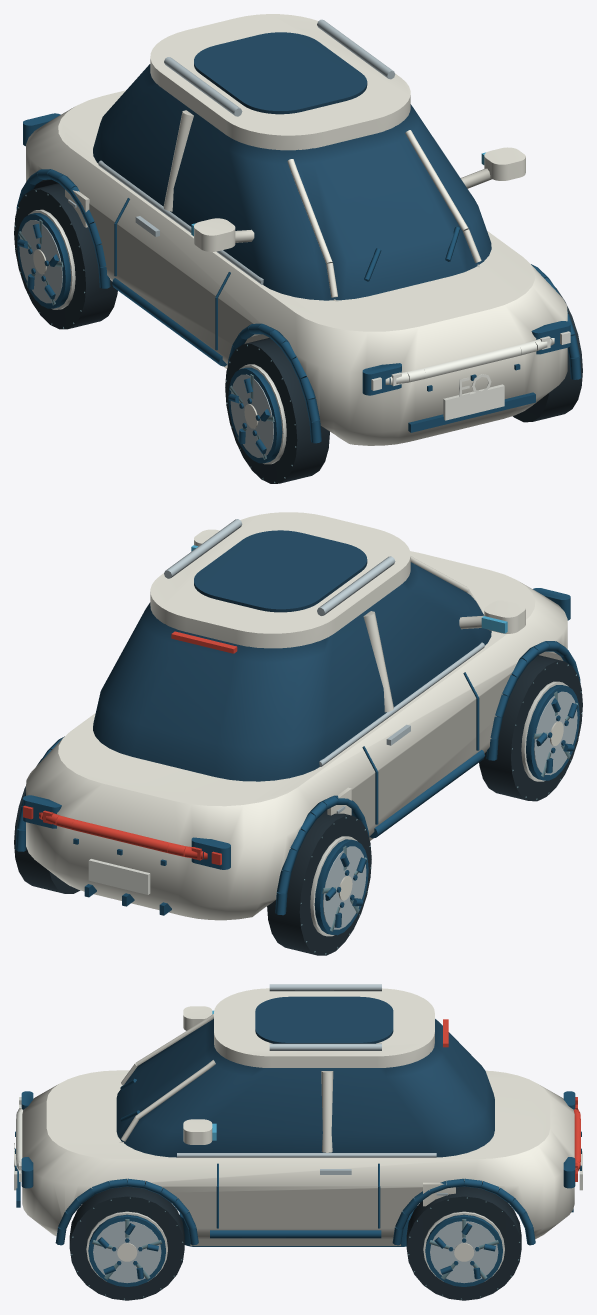
The model's file is car-white.glb.
The picture shows the model from 3 angles, top to bottom: view 1: azimuth 30°, elevation 25°; view 2: azimuth 150°, elevation 25°; view 3: azimuth 270°, elevation 25°; orthographic projection. The views are drawn at different scales.
Visible parts, largest first — view 1: sculpted electric body, sloping panoramic cabin, electric tire, battery underbody, flush door handle, aero wheel cover; view 2: sculpted electric body, sloping panoramic cabin, electric tire, battery underbody, flush door handle, conforming LED ribbon.012, aero wheel cover, aero spoke; view 3: sculpted electric body, sloping panoramic cabin, electric tire, battery underbody, flush door handle, aero wheel cover, aero spoke, conforming LED ribbon.012.
Part boxes in pixels (left/top/right/bottom): sculpted electric body: left=26, top=14, right=567, bottom=445; sloping panoramic cabin: left=93, top=32, right=491, bottom=300; electric tire: left=14, top=183, right=582, bottom=483; battery underbody: left=16, top=113, right=581, bottom=463; flush door handle: left=19, top=19, right=395, bottom=457; aero wheel cover: left=28, top=209, right=570, bottom=464; sculpted electric body: left=26, top=512, right=567, bottom=920; sloping panoramic cabin: left=93, top=530, right=491, bottom=781; electric tire: left=14, top=655, right=582, bottom=955; battery underbody: left=15, top=588, right=580, bottom=935; flush door handle: left=164, top=519, right=577, bottom=929; conforming LED ribbon.012: left=23, top=631, right=237, bottom=865; aero wheel cover: left=88, top=681, right=568, bottom=936; aero spoke: left=300, top=662, right=582, bottom=954; sculpted electric body: left=22, top=988, right=574, bottom=1261; sloping panoramic cabin: left=116, top=996, right=494, bottom=1157; electric tire: left=69, top=1186, right=521, bottom=1300; battery underbody: left=15, top=1078, right=581, bottom=1286; flush door handle: left=93, top=984, right=498, bottom=1283; aero wheel cover: left=14, top=1097, right=582, bottom=1281; aero spoke: left=71, top=1197, right=520, bottom=1299; conforming LED ribbon.012: left=443, top=1019, right=580, bottom=1181.
Size of the model in its own units: 1.03 by 0.886 by 1.98.
